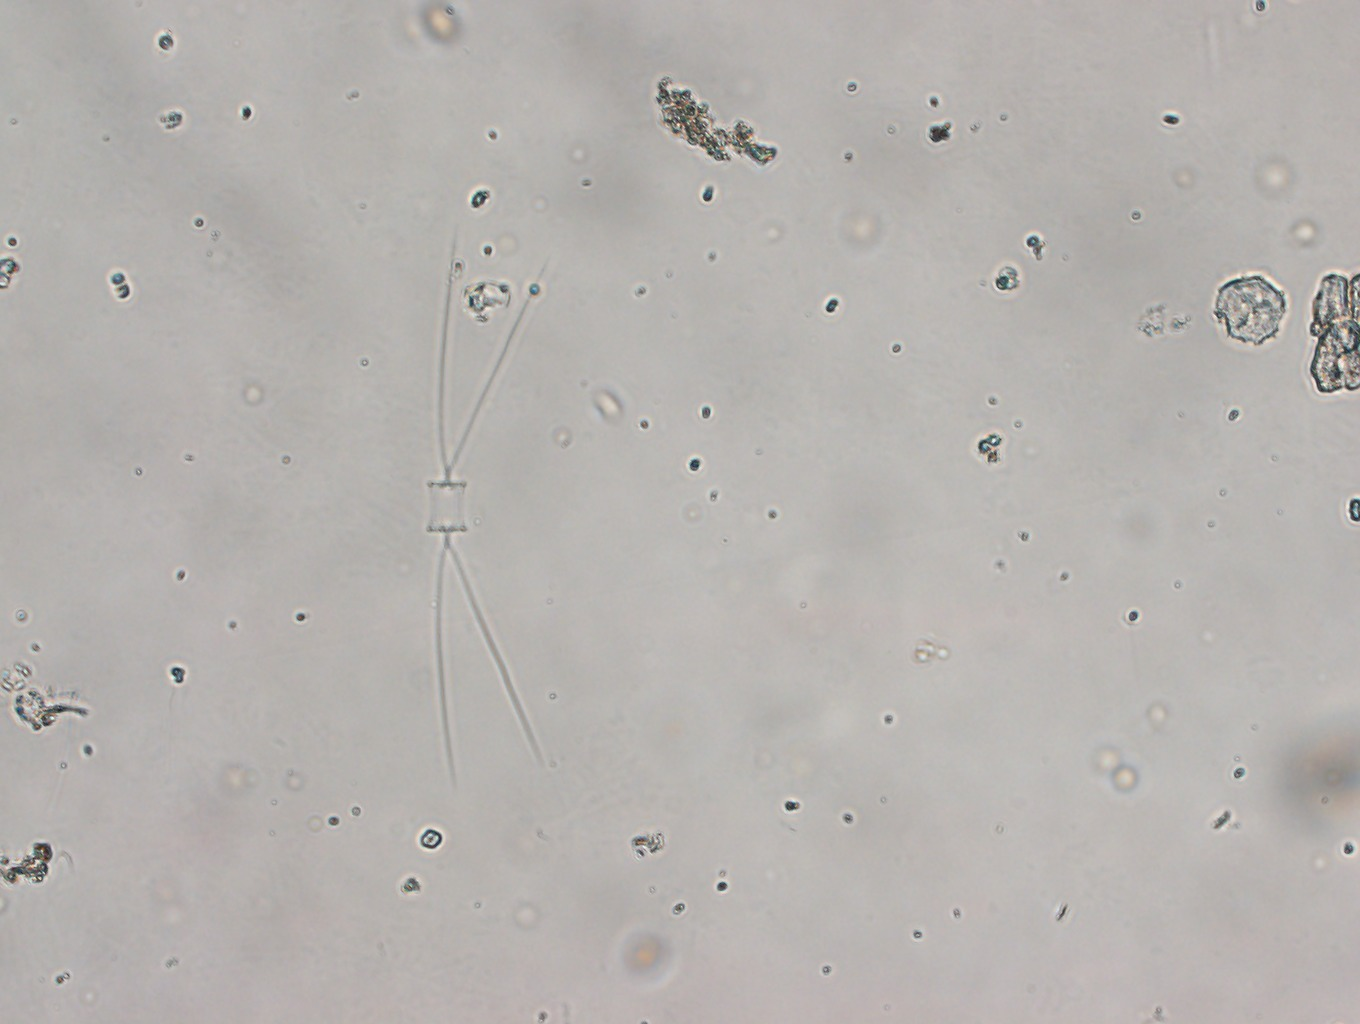chaetoceros: (425, 226, 552, 786)
